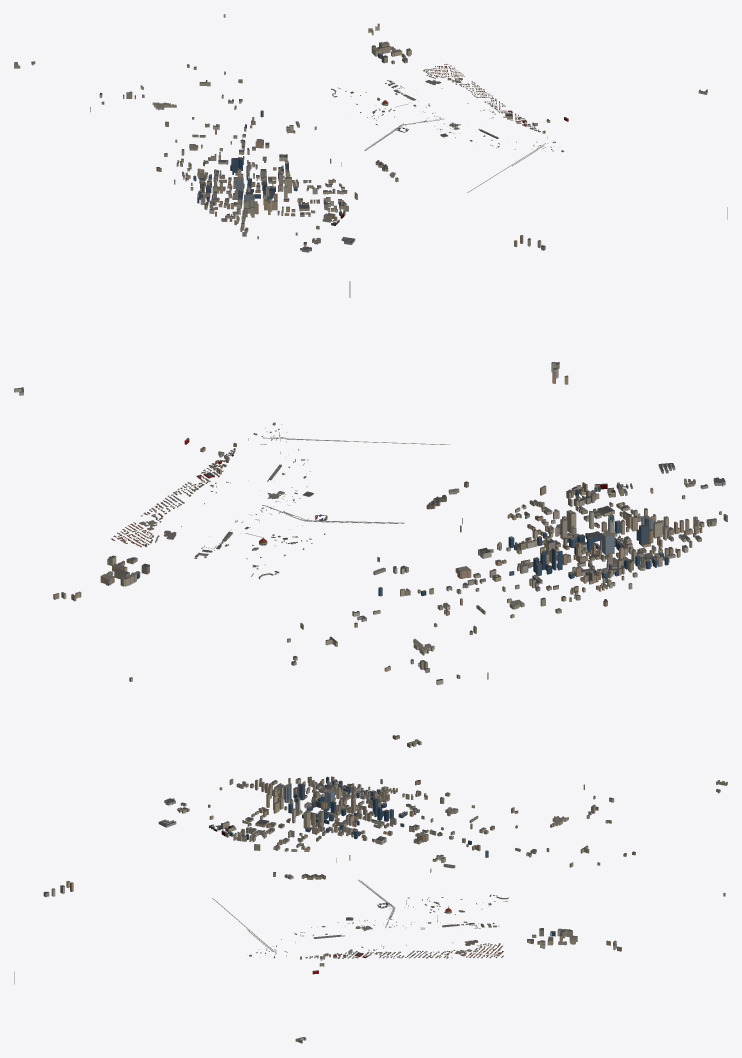
File: scenery.glb
3 views of the same model, one above another, from view 1: azimuth 30°, elevation 25°; view 2: azimuth 150°, elevation 25°; view 3: azimuth 270°, elevation 25° (orthographic). The views are drawn at different scales.
Visible parts, largest first — view 1: chunk_6_17, chunk_7_15; view 2: chunk_7_15, chunk_6_17, chunk_7_16, chunk_8_16; view 3: chunk_7_16, chunk_7_15, chunk_8_16, chunk_6_15, chunk_6_17.
Part boxes in pixels (<box>): chunk_6_17: <box>219,191,254,214</box>; chunk_7_15: <box>214,158,249,184</box>; chunk_7_15: <box>540,542,592,578</box>; chunk_6_17: <box>620,515,673,554</box>; chunk_7_16: <box>569,532,617,560</box>; chunk_8_16: <box>525,518,579,551</box>; chunk_7_16: <box>311,789,350,821</box>; chunk_7_15: <box>348,797,386,820</box>; chunk_8_16: <box>314,810,352,836</box>; chunk_6_15: <box>347,783,387,804</box>; chunk_6_17: <box>279,783,316,805</box>.
Size of the model in its own units: 7220 by 267 by 8370.
